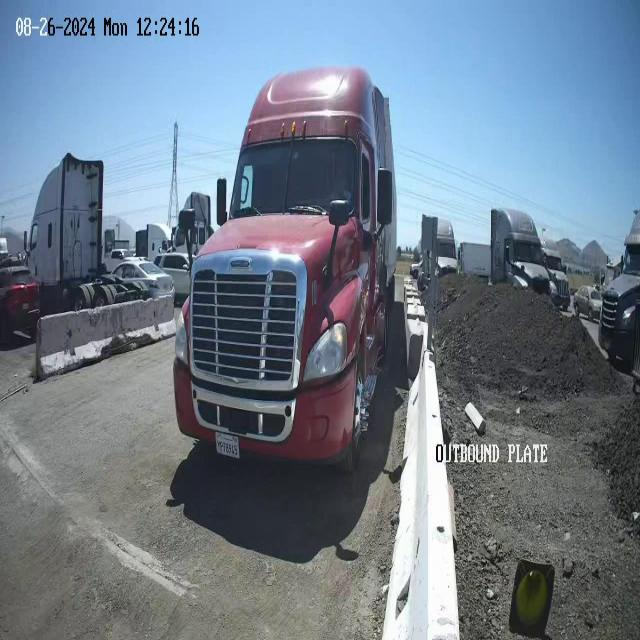TRUCK_OUT: (172, 65, 398, 475)
